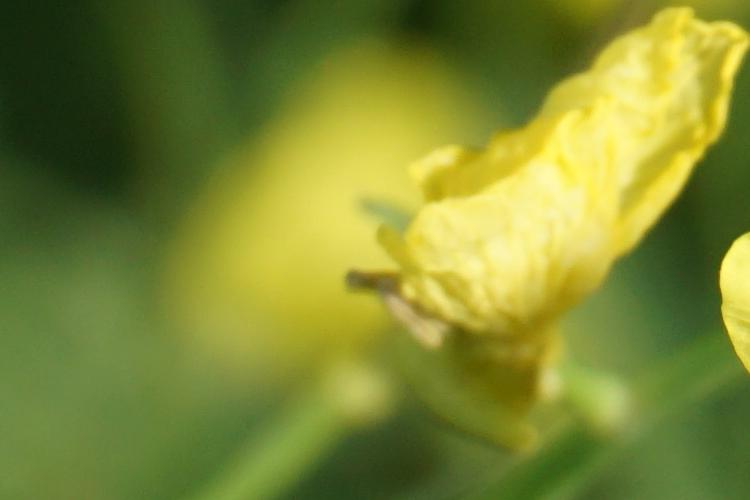yellow: (373, 22, 724, 384)
